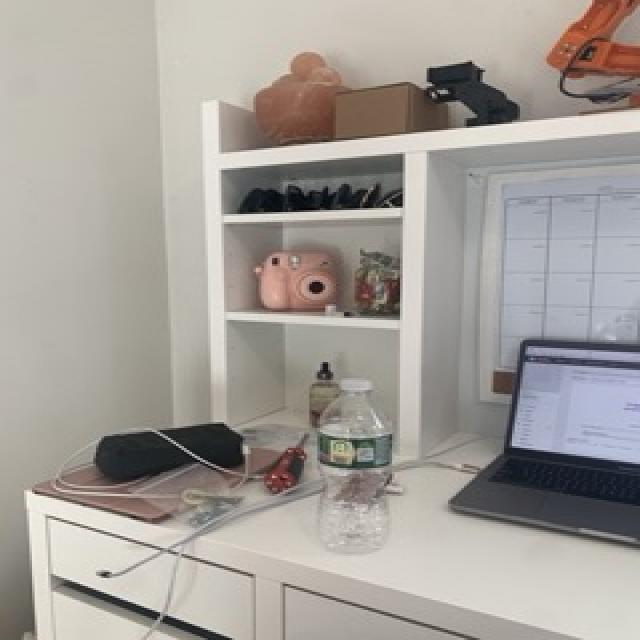water_bottle: (311, 376, 397, 556)
